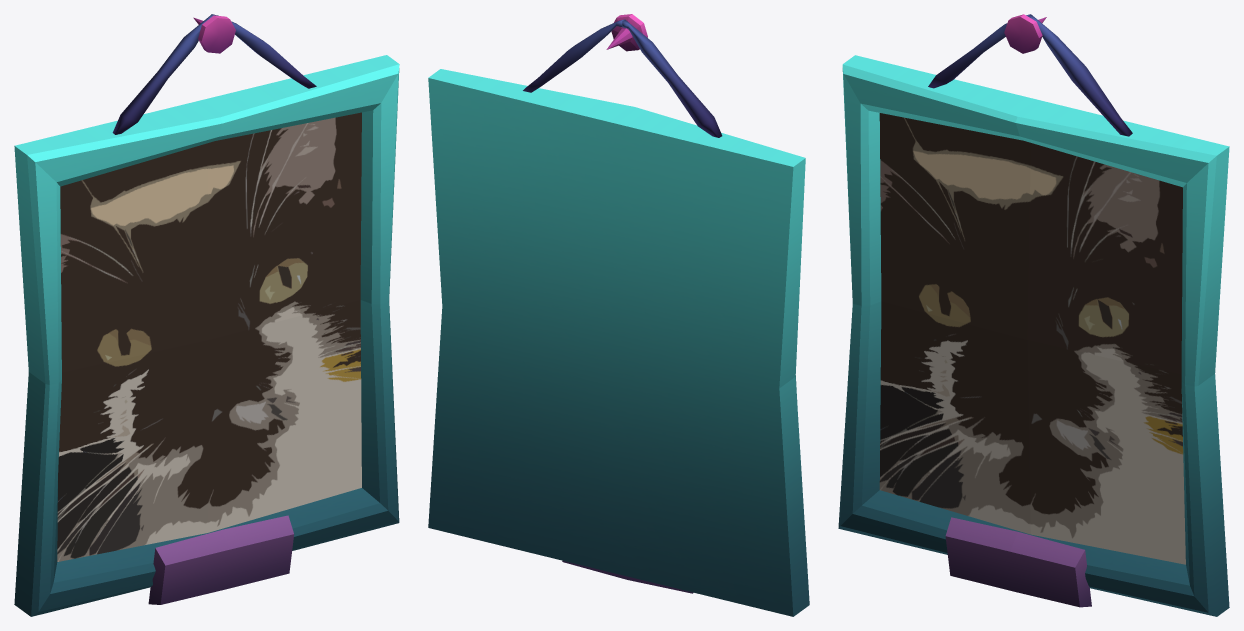
Rendered from Cuadro_A.fbx.
3 views of the same model, side by side, from view 1: azimuth 30°, elevation 25°; view 2: azimuth 150°, elevation 25°; view 3: azimuth 330°, elevation 25° (orthographic). The views are drawn at different scales.
Visible parts, largest first — view 1: Cuadro_A; view 2: Cuadro_A; view 3: Cuadro_A.
Boxes of the visible parts, x1,y1,x2,y2 form: Cuadro_A: (14,14,399,616); Cuadro_A: (428,14,809,616); Cuadro_A: (838,14,1229,616).
Size of the model in its own units: 480 by 707 by 82.14.
